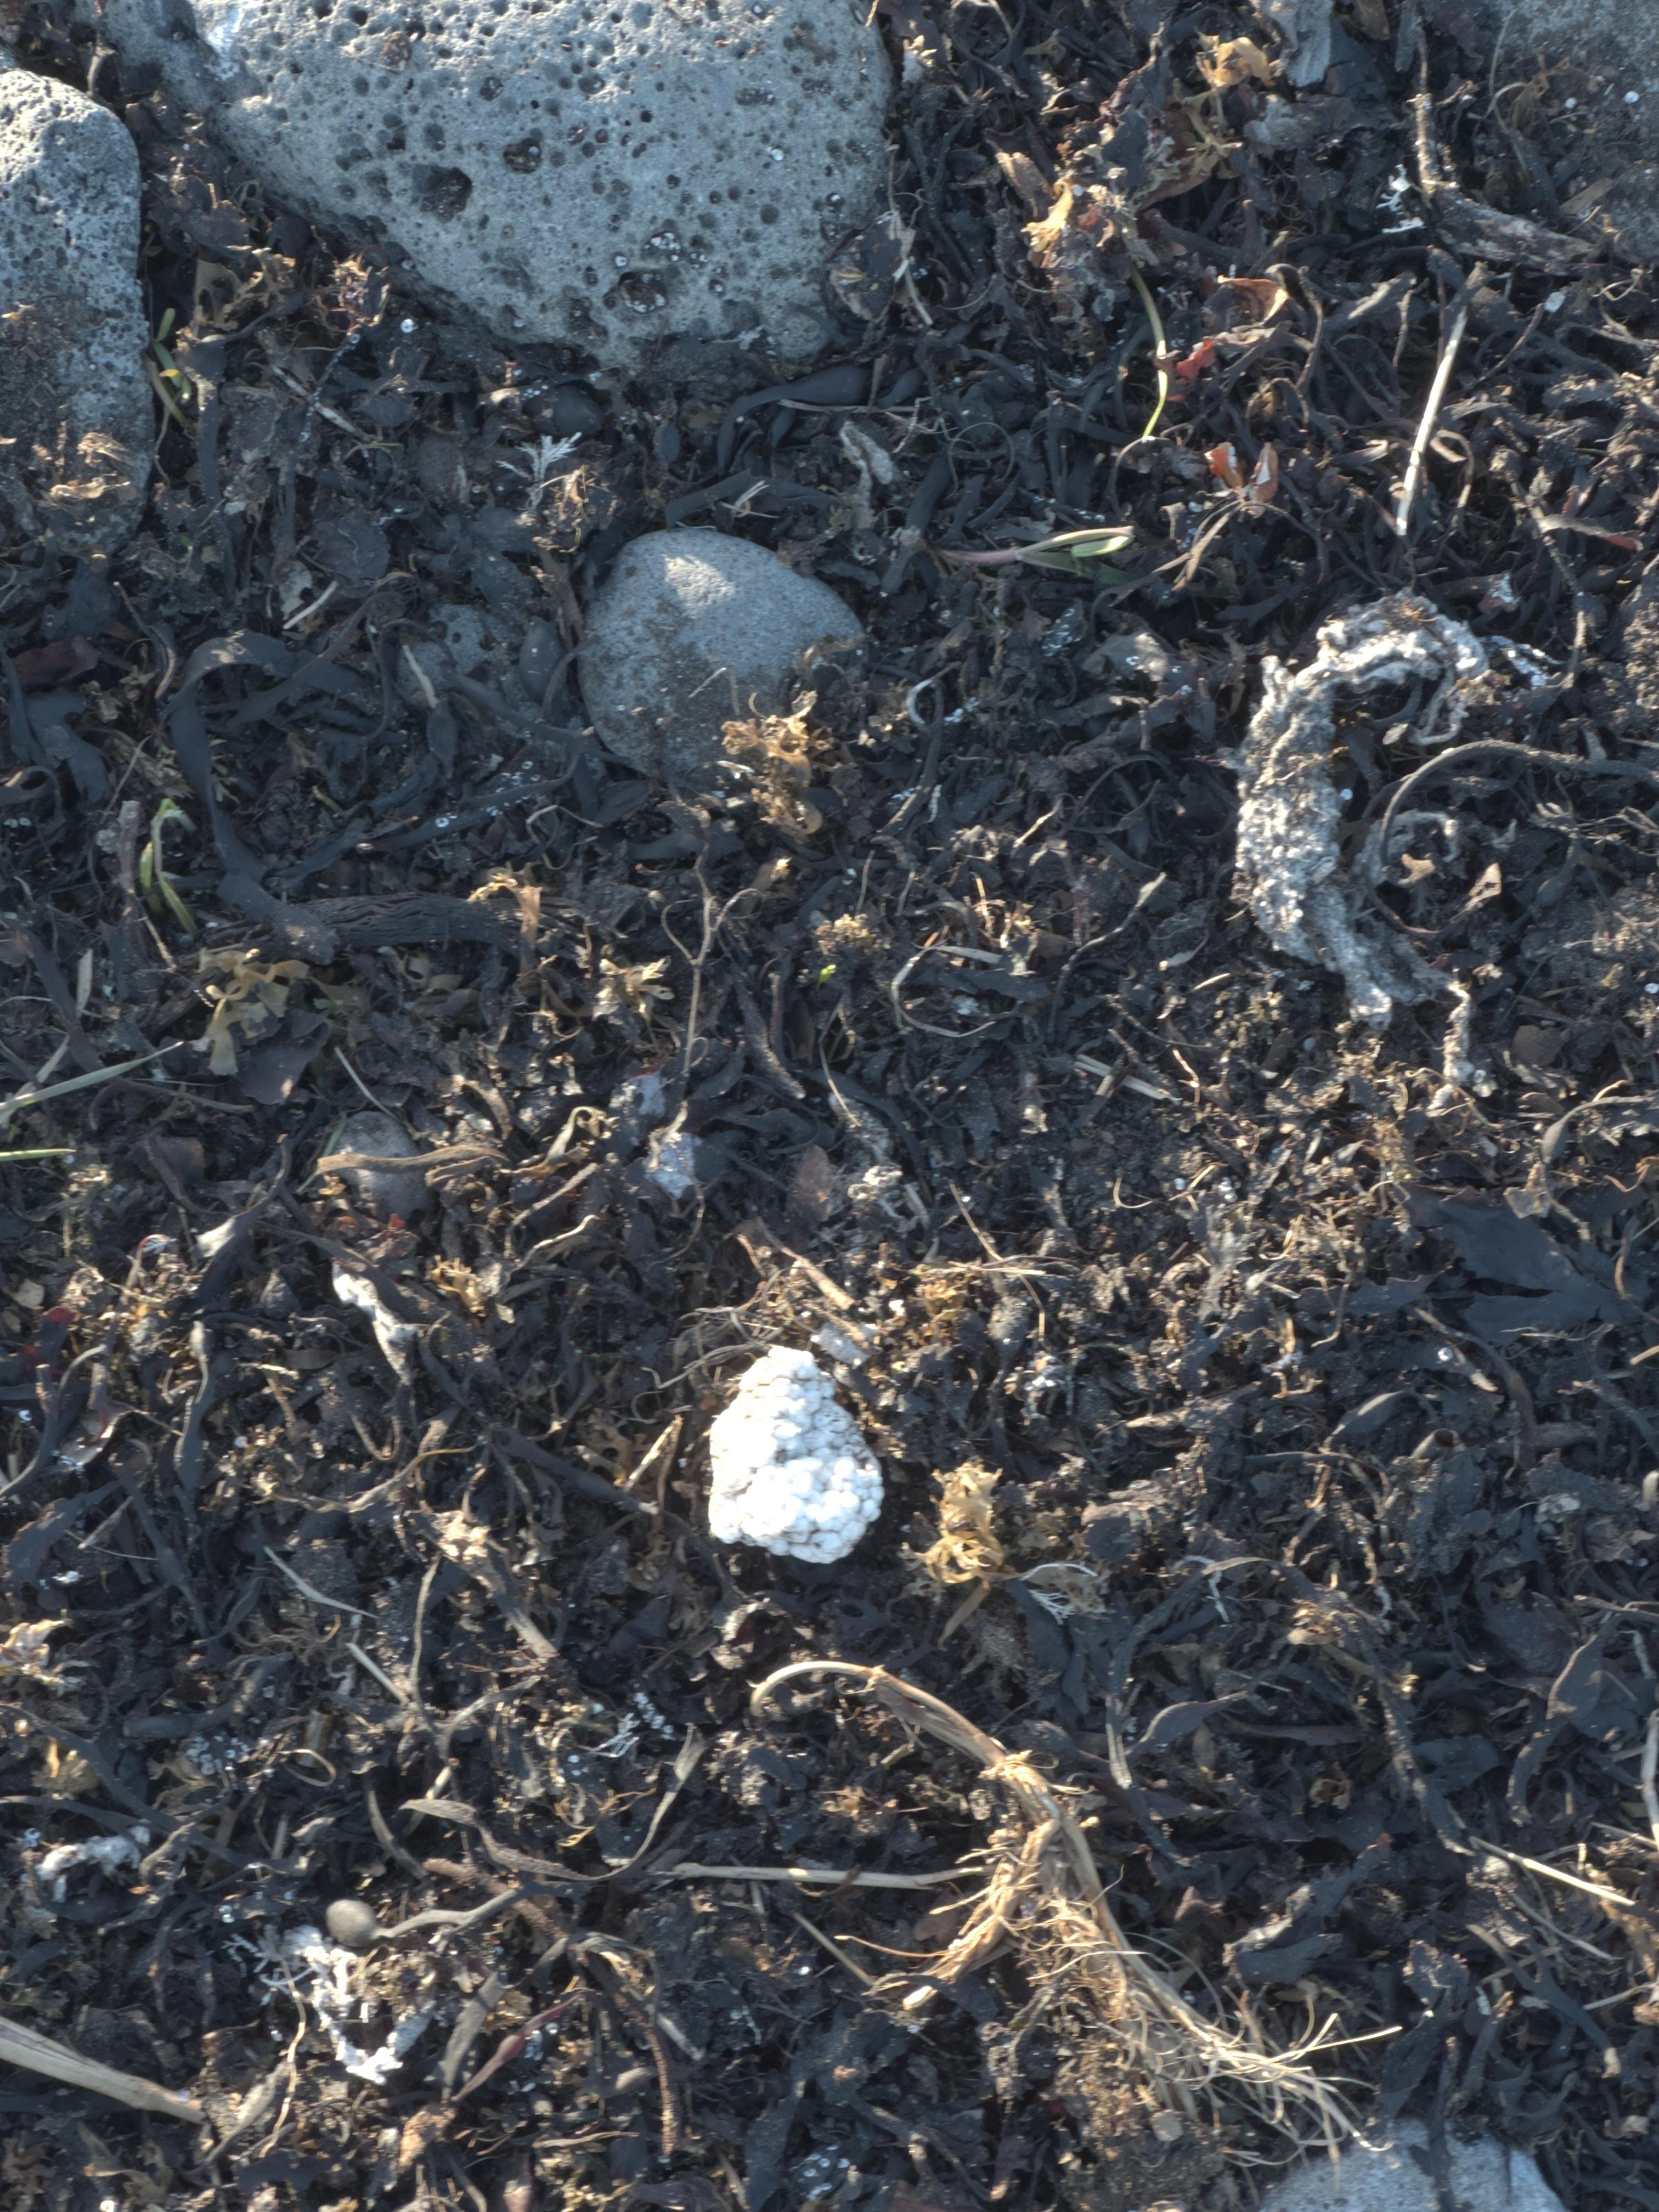trash: (1236, 592, 1516, 1024), (709, 1348, 885, 1564)
